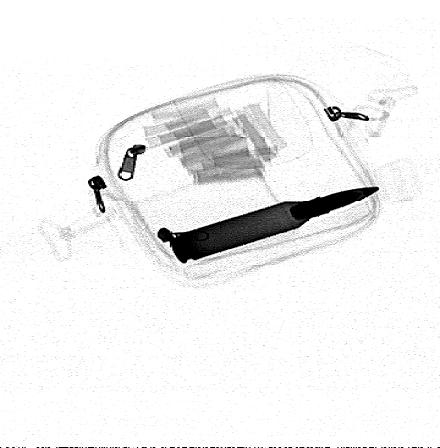Bullet: (169, 186, 385, 265)
